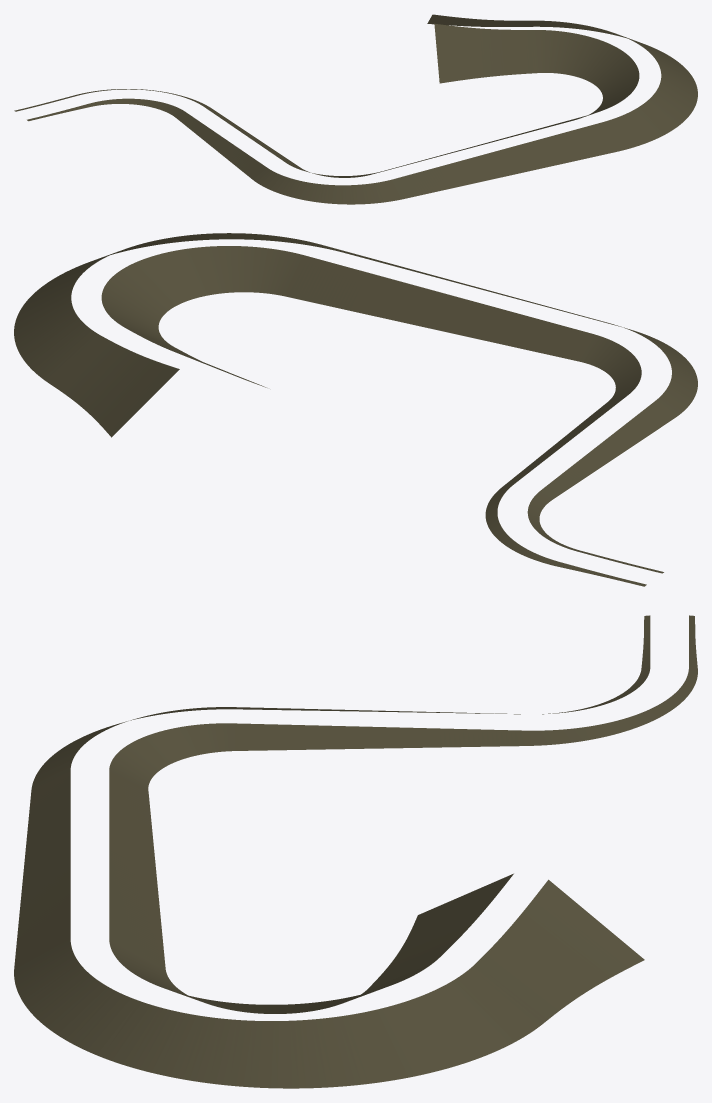
The model's file is between_sites_earth_local.dae.
3 renders of one model, top to bottom at view 1: azimuth 30°, elevation 25°; view 2: azimuth 150°, elevation 25°; view 3: azimuth 270°, elevation 25°, orthographic. The views are drawn at different scales.
Parts seen in each view (by area): view 1: between_sites_earth_local_0_L1; view 2: between_sites_earth_local_0_L1; view 3: between_sites_earth_local_0_L1.
Boxes of the visible parts, left/top/right/bottom form: between_sites_earth_local_0_L1: left=14, top=14, right=697, bottom=204; between_sites_earth_local_0_L1: left=14, top=233, right=697, bottom=586; between_sites_earth_local_0_L1: left=14, top=615, right=697, bottom=1088.
Size of the model in its own units: 116 by 70.85 by 7.02.
